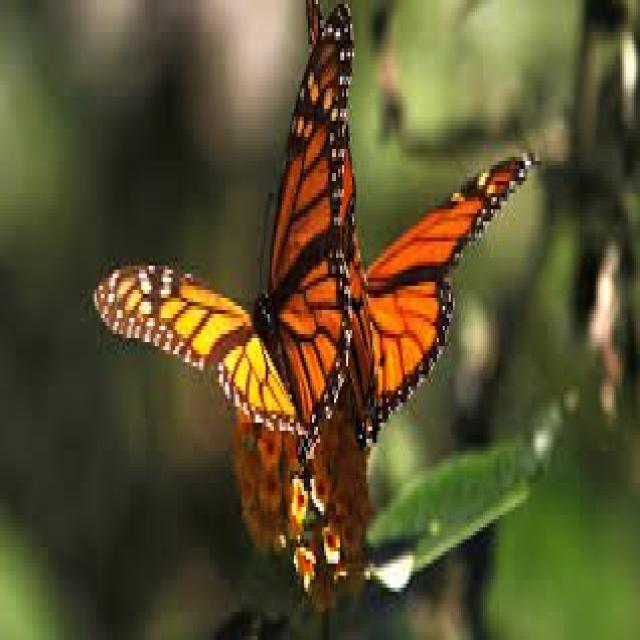butterfly: (130, 134, 438, 479)
